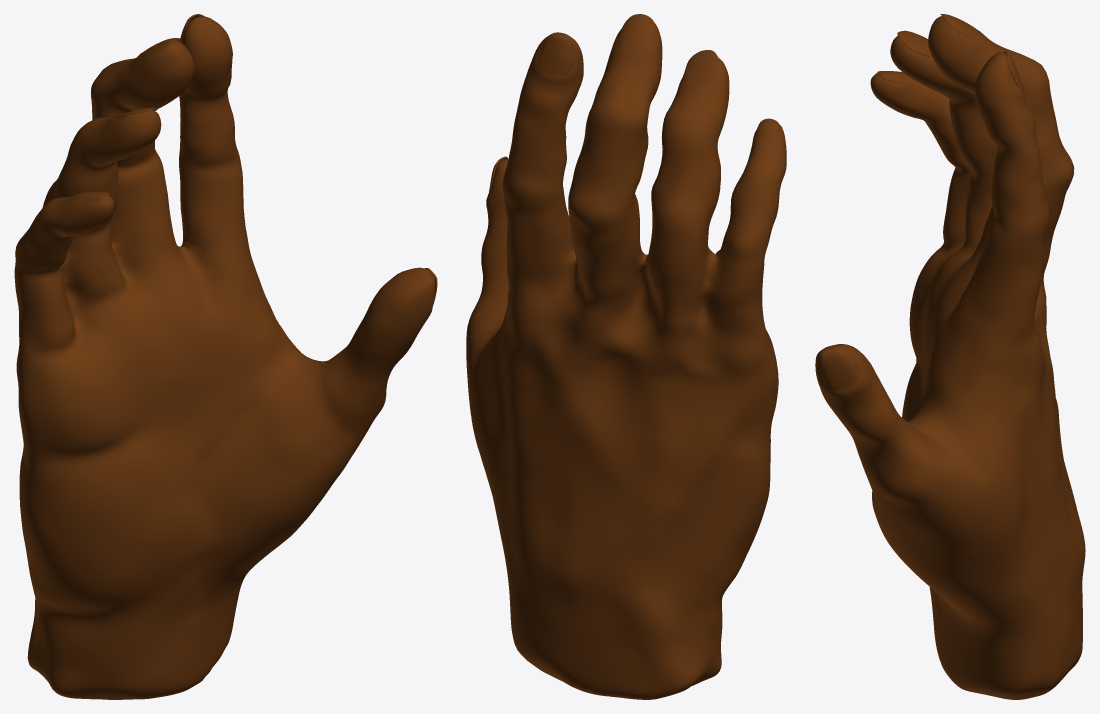
Rendered from uploads_files_2548793_fbx-kare-decor.FBX.
The picture shows the model from 3 angles, left to right: view 1: azimuth 30°, elevation 25°; view 2: azimuth 150°, elevation 25°; view 3: azimuth 270°, elevation 25°; orthographic projection. The views are drawn at different scales.
Visible parts, largest first — view 1: kare-decor; view 2: kare-decor; view 3: kare-decor.
Part boxes in pixels (left/top/right/bottom): kare-decor: left=14, top=14, right=437, bottom=699; kare-decor: left=466, top=14, right=786, bottom=699; kare-decor: left=815, top=14, right=1085, bottom=699.
Size of the model in its own units: 191 by 345 by 128.
